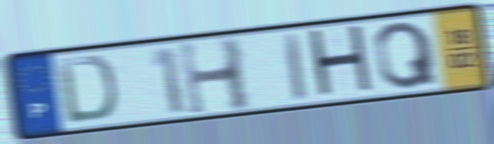1: (150, 44, 187, 116)
D: (54, 54, 119, 126)
H: (176, 35, 256, 119), (305, 22, 379, 103)
I: (282, 30, 310, 103)
Q: (372, 18, 442, 92)
